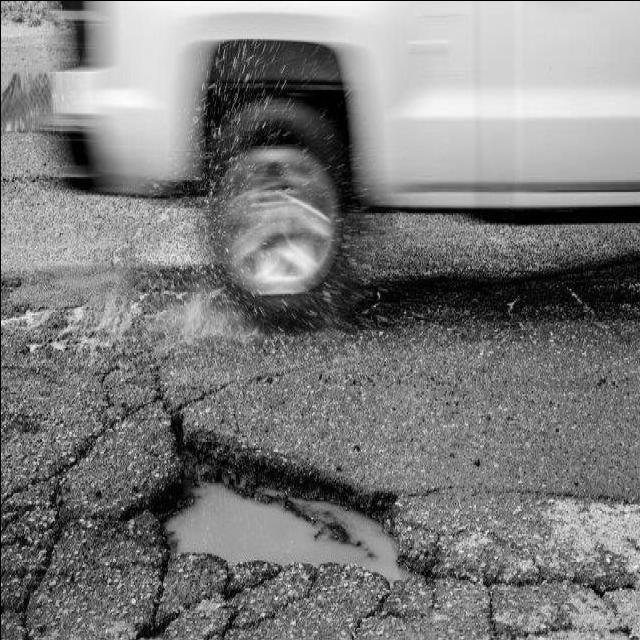jalan retak: (1, 352, 161, 640), (404, 546, 640, 638), (181, 344, 451, 416), (105, 568, 320, 640), (416, 468, 634, 526), (1, 268, 114, 362), (338, 580, 416, 640)
lubang: (129, 375, 436, 609)
